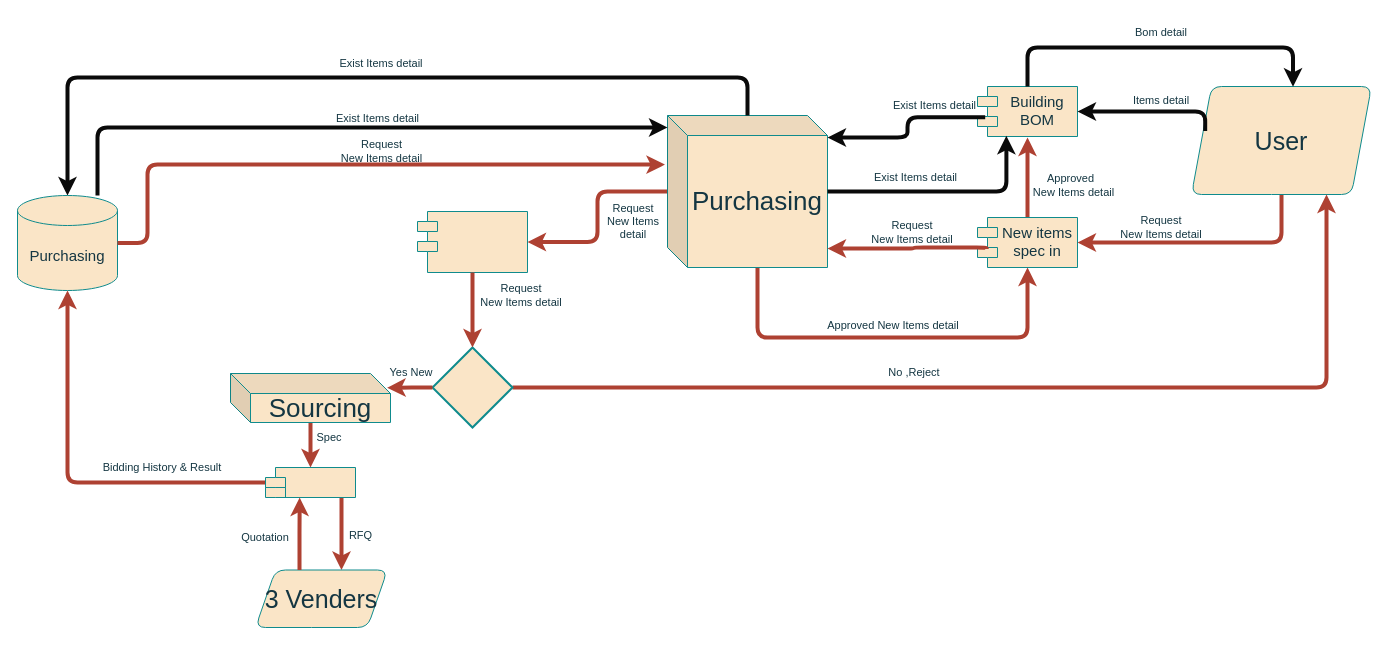
The diagram is 1389 pixels wide and 645 high, and some of its shapes have lost their labels. The centre of each missing label's shape, as x and y in pixels:
Bidding: [310,482]
items spec & Function check: [472,241]
New? Y/N: [472,387]
